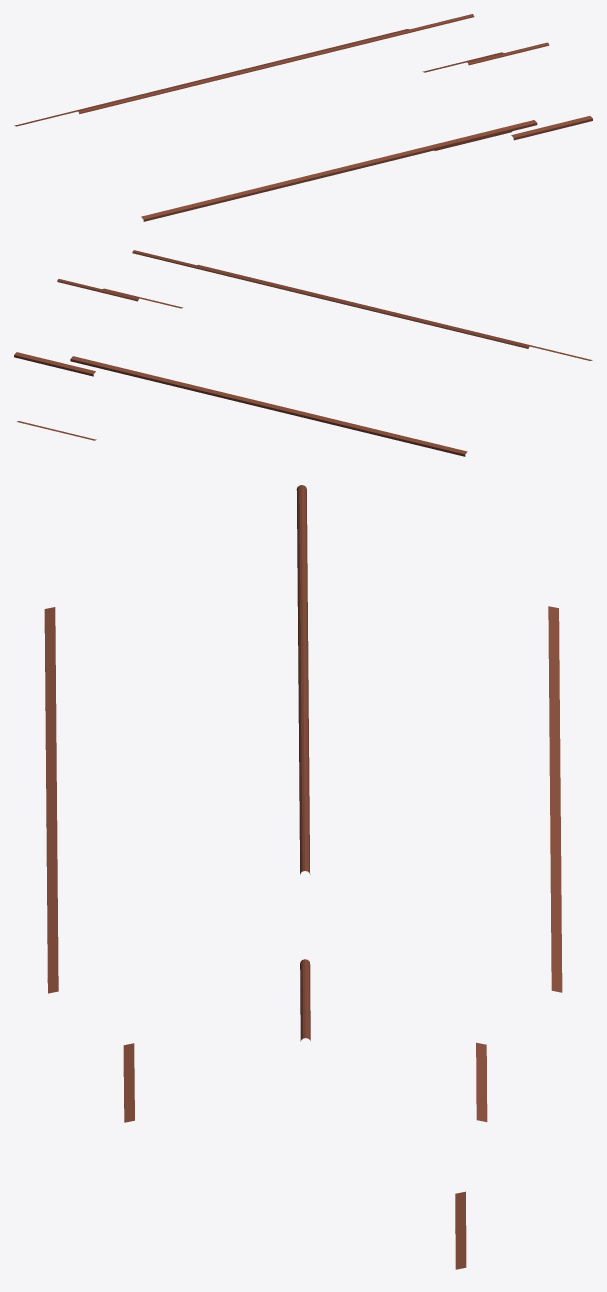
3 views of the same model, one above another, from view 1: azimuth 30°, elevation 25°; view 2: azimuth 150°, elevation 25°; view 3: azimuth 270°, elevation 25° (orthographic). The views are drawn at different scales.
Visible parts, largest first — view 1: detail; view 2: detail; view 3: detail.
Part boxes in pixels (x1,y1,x2,y2): detail: (14, 14, 592, 221); detail: (14, 250, 592, 456); detail: (44, 485, 562, 1269).
Size of the model in its own units: 32.67 by 10.97 by 15.5.
